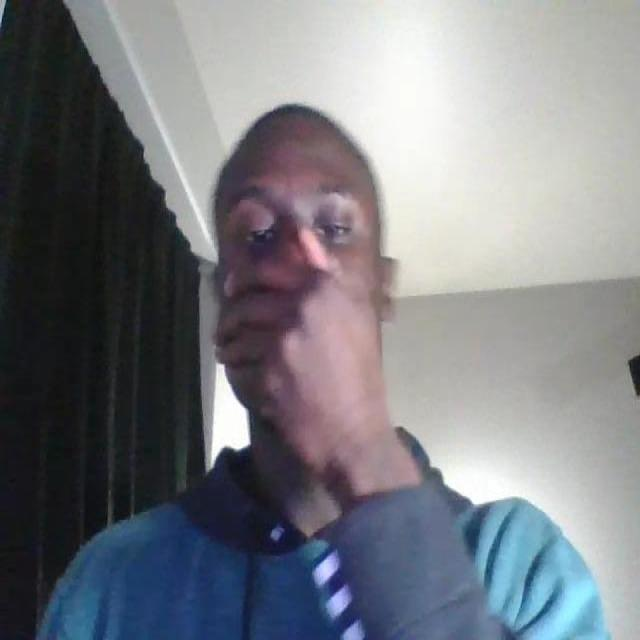no-helmet: (219, 144, 383, 359)
